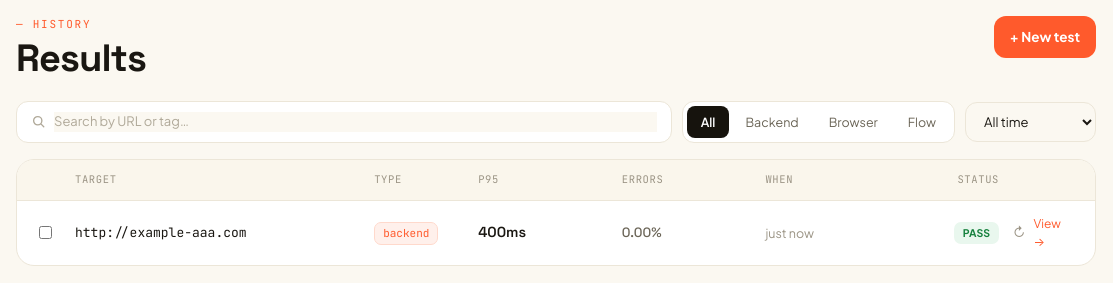
Test case: Results page › compare button does not appear when fewer than 2 items are selected
The width and height of the screenshot is (1113, 283).
Expected: the text "http://example-aaa.com" is shown, [75, 223, 247, 243]
Step 1. Click the checkbox → click(46, 232), box [39, 226, 52, 238]
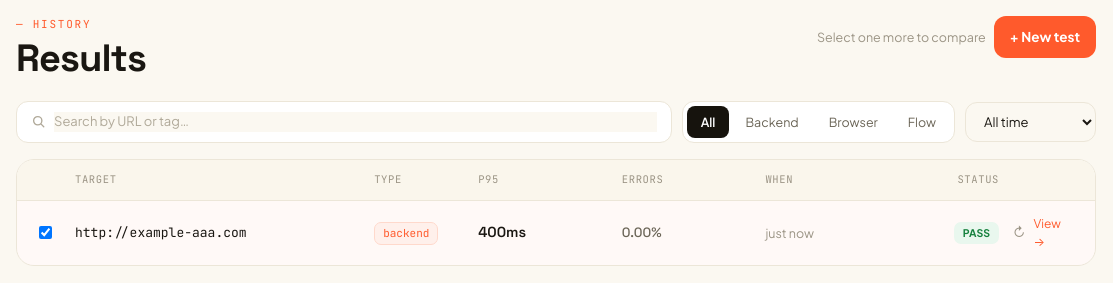
Expected: the text "Select one more to compare" is shown, [817, 28, 986, 47]
